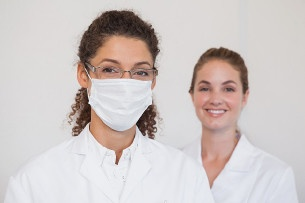Mask: (86, 56, 161, 131)
